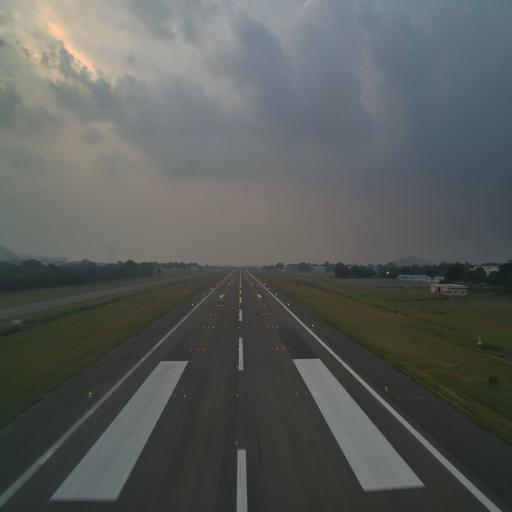on: (163, 391, 168, 399), (384, 384, 389, 392), (296, 389, 300, 398), (88, 390, 93, 397), (234, 438, 238, 446), (172, 392, 176, 400), (314, 390, 318, 398), (235, 392, 240, 398), (182, 393, 186, 399), (236, 366, 240, 372), (305, 390, 308, 396)
